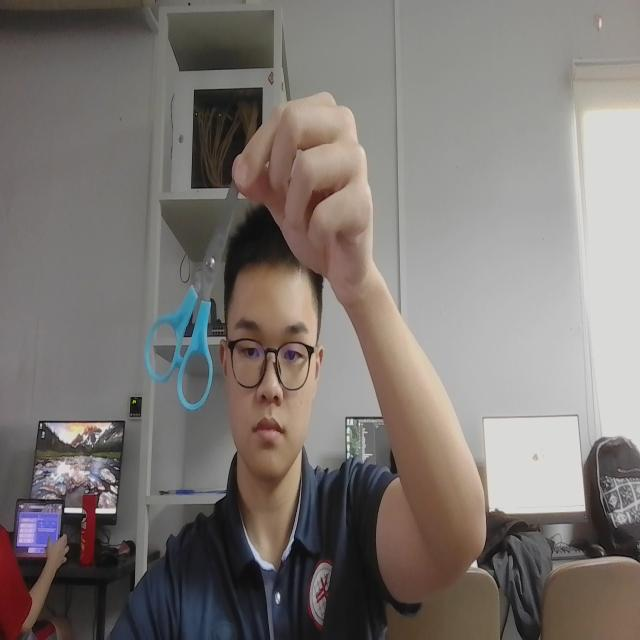scissors: (133, 154, 247, 421)
